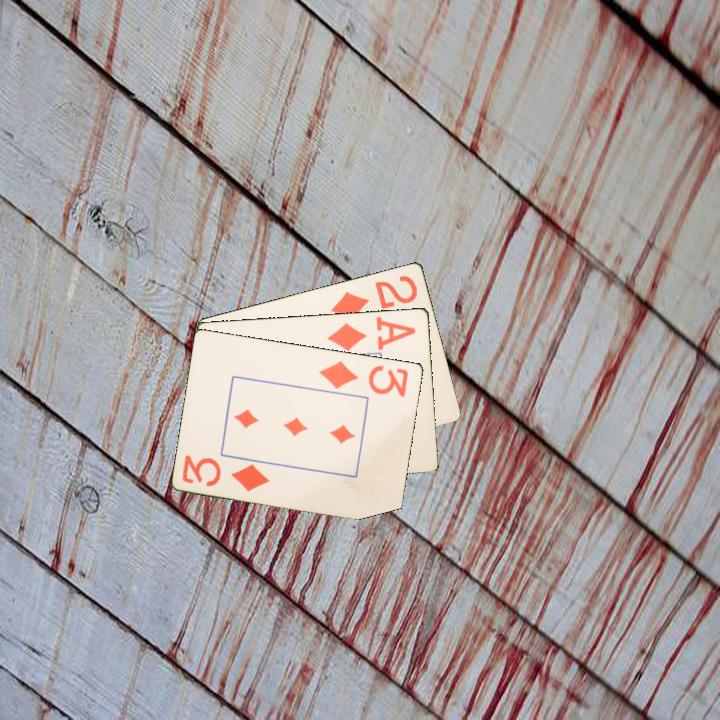2d: (327, 271, 420, 322)
3d: (316, 357, 412, 400), (179, 451, 273, 494)
Ad: (324, 313, 419, 354)
